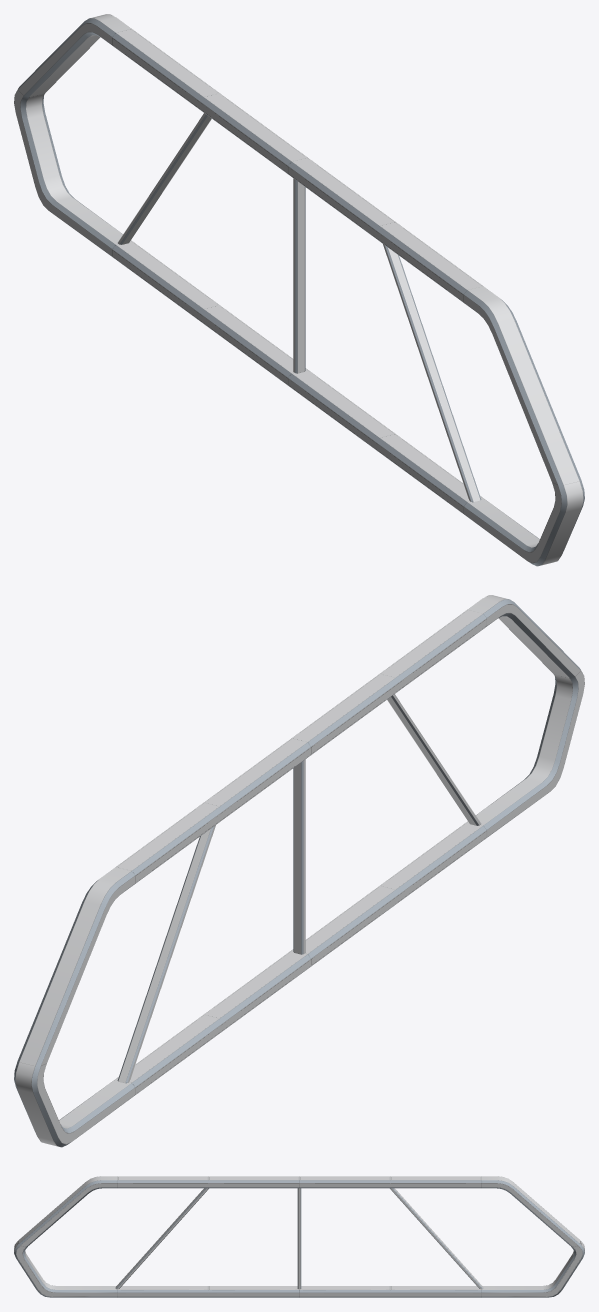
File: Fence_01.FBX
3 views of the same model, one above another, from view 1: azimuth 30°, elevation 25°; view 2: azimuth 150°, elevation 25°; view 3: azimuth 270°, elevation 25° (orthographic). The views are drawn at different scales.
Visible parts, largest first — view 1: Fence_01; view 2: Fence_01; view 3: Fence_01.
Part boxes in pixels (left/top/right/bottom): Fence_01: left=14, top=14, right=584, bottom=566; Fence_01: left=14, top=595, right=584, bottom=1147; Fence_01: left=14, top=1176, right=584, bottom=1297.
Size of the model in its own units: 0.1138 by 1.07 by 4.71.
1 material, 1 textured.
